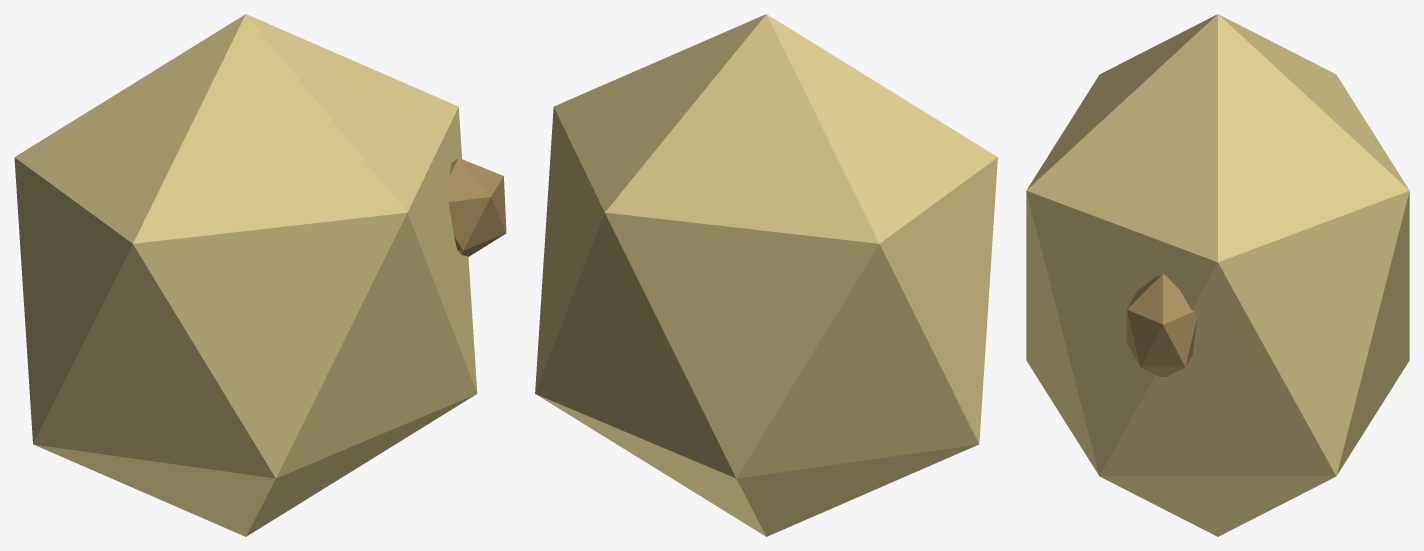
Rendered from fish_001_yellow_tang__egg.glb.
3 views of the same model, side by side, from view 1: azimuth 30°, elevation 25°; view 2: azimuth 150°, elevation 25°; view 3: azimuth 270°, elevation 25° (orthographic).
Visible parts, largest first — view 1: fish_001_yellow_tang__egg__shell, fish_001_yellow_tang__egg__embryo_mark; view 2: fish_001_yellow_tang__egg__shell; view 3: fish_001_yellow_tang__egg__shell, fish_001_yellow_tang__egg__embryo_mark.
Boxes of the visible parts, bbox=[...] form: fish_001_yellow_tang__egg__shell: bbox=[14, 14, 477, 536]; fish_001_yellow_tang__egg__embryo_mark: bbox=[448, 158, 506, 256]; fish_001_yellow_tang__egg__shell: bbox=[535, 14, 997, 536]; fish_001_yellow_tang__egg__shell: bbox=[1026, 14, 1409, 536]; fish_001_yellow_tang__egg__embryo_mark: bbox=[1126, 274, 1197, 376].
Bounding box in the file's own units: 0.00298 × 0.00336 × 0.00223.
